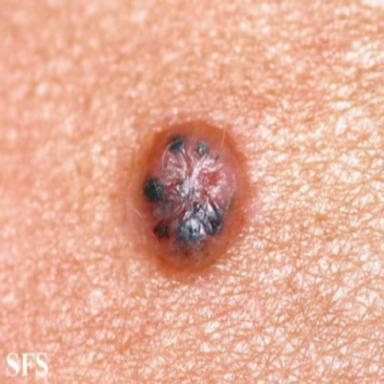basal-cell-carcinoma: (125, 120, 251, 280)
